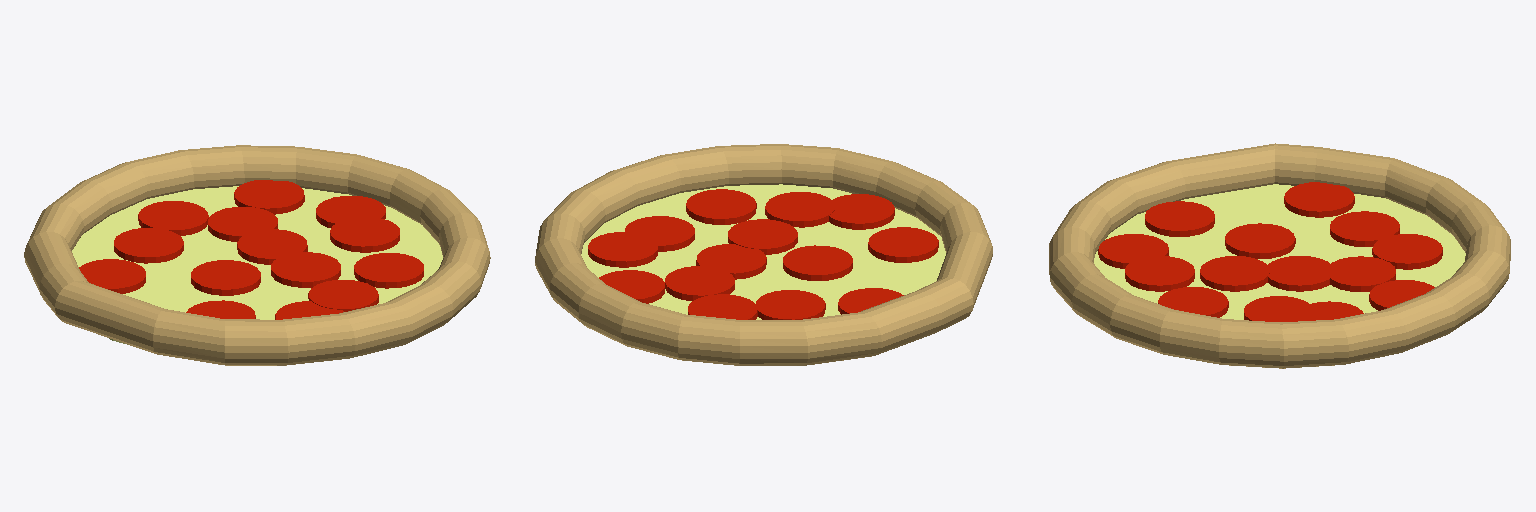
The model's file is pizza.obj.
The picture shows the model from 3 angles: view 1: azimuth 30°, elevation 25°; view 2: azimuth 150°, elevation 25°; view 3: azimuth 270°, elevation 25°; orthographic projection.
Parts seen in each view (by area): view 1: polySurface1; view 2: polySurface1; view 3: polySurface1.
Part boxes in pixels (bbox=[...]): polySurface1: bbox=[24, 145, 490, 365]; polySurface1: bbox=[535, 144, 992, 365]; polySurface1: bbox=[1049, 143, 1510, 368].
Size of the model in its own units: 27.32 by 2.74 by 26.92.